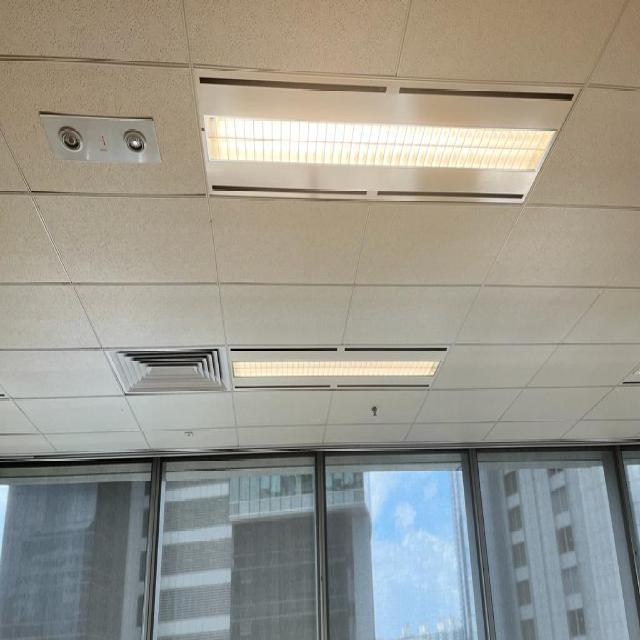Light-Opened: (189, 60, 582, 206), (225, 344, 451, 390)
